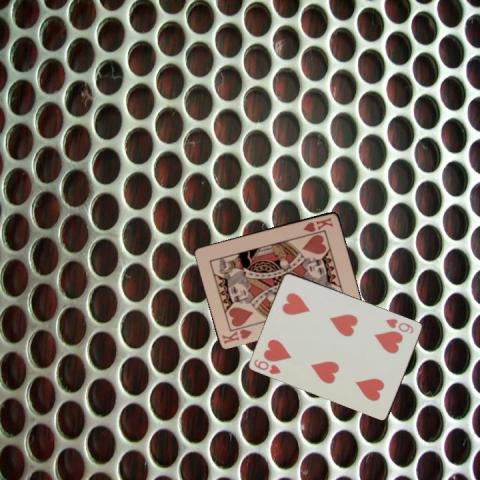6h: (383, 315, 415, 335), (251, 356, 283, 375)
Kh: (300, 214, 334, 233), (220, 326, 254, 345)
